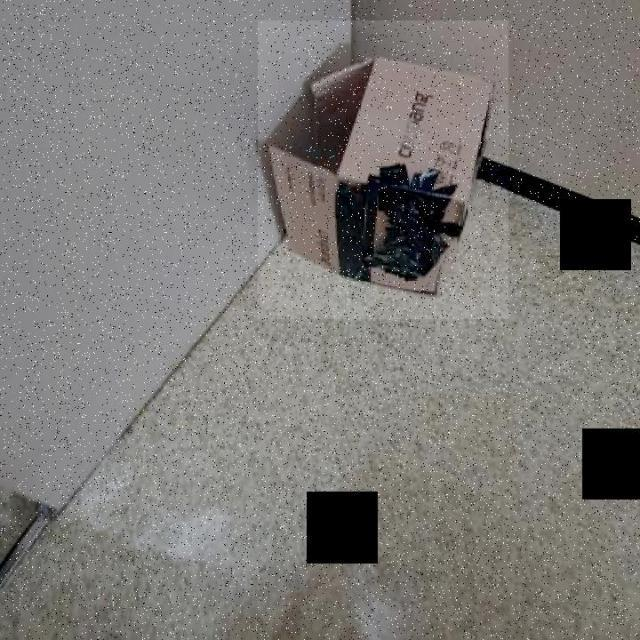box: (258, 21, 508, 320)
